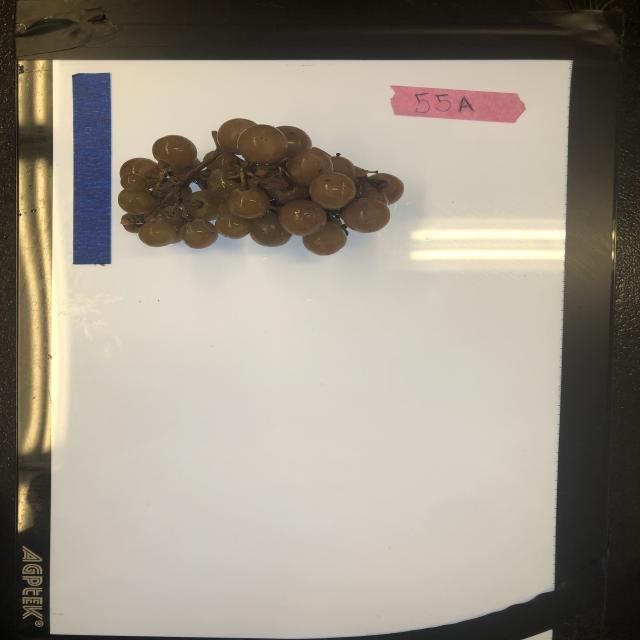grape_cluster: (119, 116, 407, 256)
index: (390, 81, 530, 127)
measure_label: (72, 70, 113, 265)
